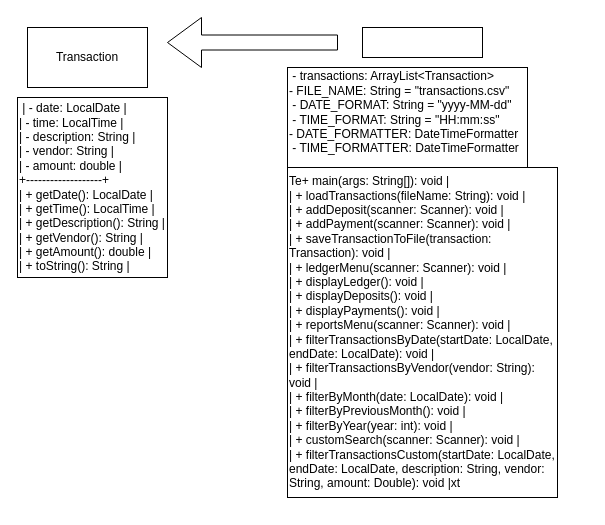
Image size: 605x525. Some labels were removed from this diagram. The shapes that lost their labels are listed below. From the top down, each one's centre as x and y in pixels, then its label:
(252,42): has a
(422,42): Financial Tracker
